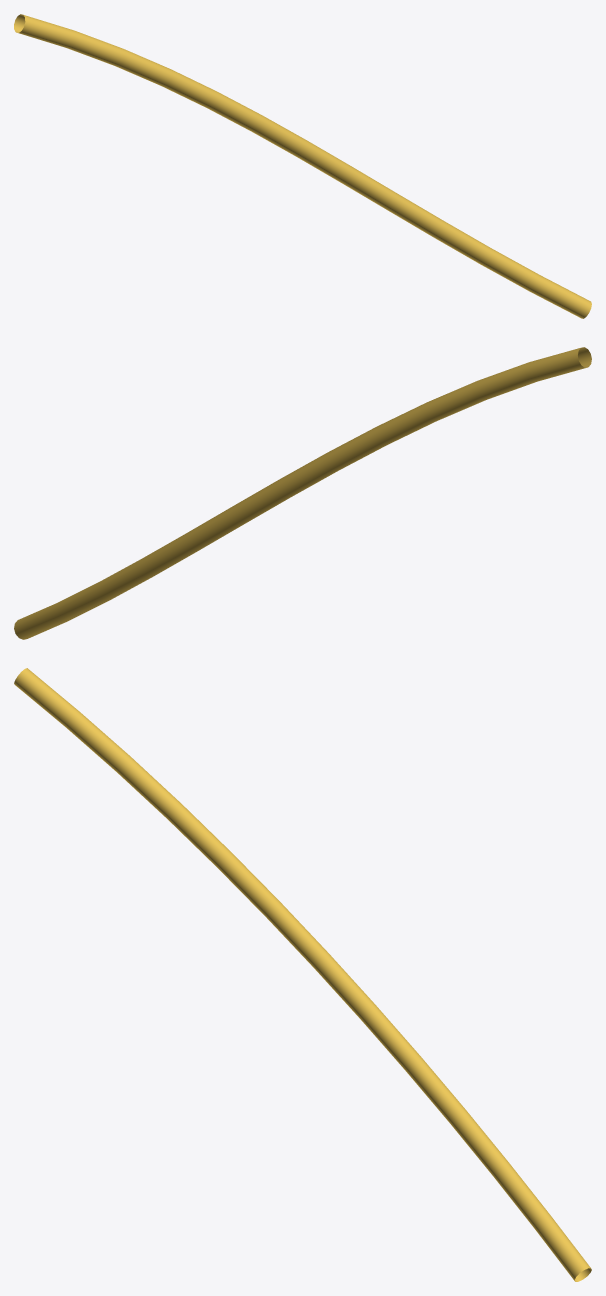
Rendered from Middle_trunk_brachial_plexus_left.glb.
3 views of the same model, one above another, from view 1: azimuth 30°, elevation 25°; view 2: azimuth 150°, elevation 25°; view 3: azimuth 330°, elevation 25° (orthographic). The views are drawn at different scales.
Visible parts, largest first — view 1: Middle_trunk_of_brachial_plexus.l_BezierCurve.504; view 2: Middle_trunk_of_brachial_plexus.l_BezierCurve.504; view 3: Middle_trunk_of_brachial_plexus.l_BezierCurve.504.
Part boxes in pixels (x1,y1,x2,y2): Middle_trunk_of_brachial_plexus.l_BezierCurve.504: (14, 14, 591, 318); Middle_trunk_of_brachial_plexus.l_BezierCurve.504: (14, 347, 591, 639); Middle_trunk_of_brachial_plexus.l_BezierCurve.504: (14, 668, 591, 1281).
Bounding box in the file's own units: 0.0324 × 0.0234 × 0.00349.
